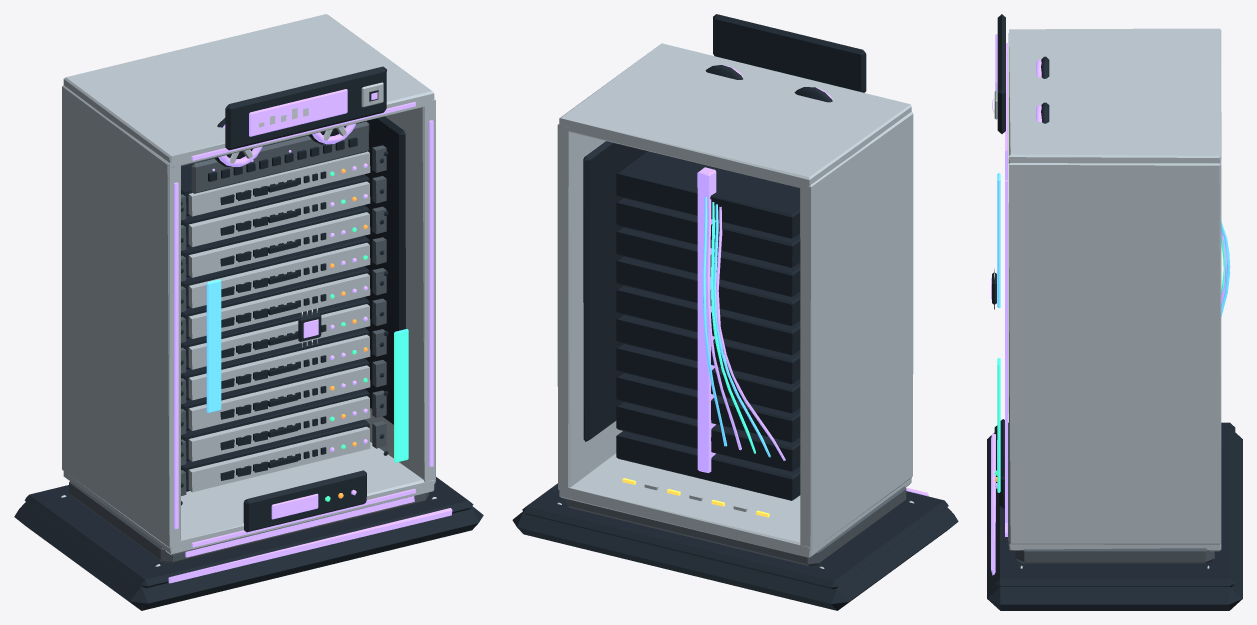
File: ConsumerEDC.glb
3 renders of one model, left to right at view 1: azimuth 30°, elevation 25°; view 2: azimuth 150°, elevation 25°; view 3: azimuth 270°, elevation 25°, orthographic. The views are drawn at different scales.
Visible parts, largest first — view 1: ConsumerEDC_Body, ConsumerEDC_ControlPlane, ConsumerEDC_DataPlane; view 2: ConsumerEDC_Body; view 3: ConsumerEDC_Body, ConsumerEDC_ControlPlane, ConsumerEDC_DataPlane.
Boxes of the visible parts, x1=… form: ConsumerEDC_Body: x1=14, y1=14, x2=483, y2=610; ConsumerEDC_ControlPlane: x1=206, y1=279, x2=221, y2=412; ConsumerEDC_DataPlane: x1=394, y1=329, x2=408, y2=462; ConsumerEDC_Body: x1=512, y1=14, x2=958, y2=610; ConsumerEDC_Body: x1=987, y1=14, x2=1242, y2=610; ConsumerEDC_ControlPlane: x1=997, y1=173, x2=1000, y2=307; ConsumerEDC_DataPlane: x1=997, y1=358, x2=1000, y2=492.
Bounding box in the file's own units: 2.72 × 3.56 × 1.72.
